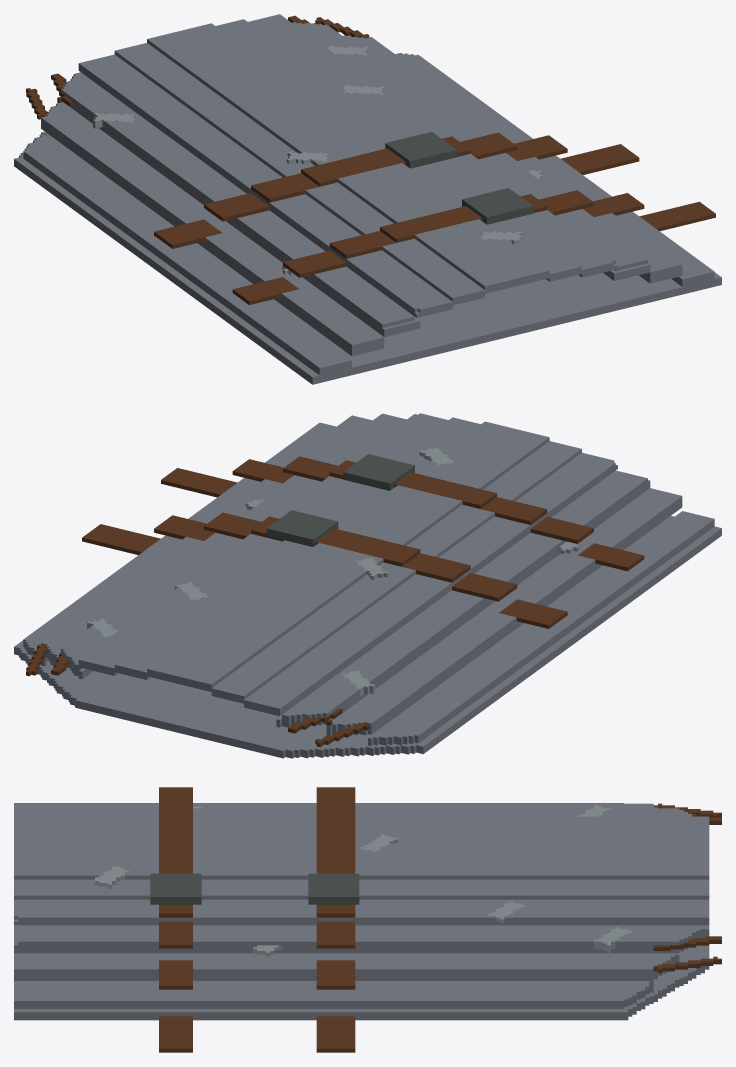
Rendered from ch_chestguard_metal_sheets.glb.
3 renders of one model, top to bottom at view 1: azimuth 30°, elevation 25°; view 2: azimuth 150°, elevation 25°; view 3: azimuth 270°, elevation 25°, orthographic. The views are drawn at different scales.
Visible parts, largest first — view 1: ch_chestguard_metal_sheets:compound; view 2: ch_chestguard_metal_sheets:compound; view 3: ch_chestguard_metal_sheets:compound.
Part boxes in pixels (x1,y1,x2,y2): ch_chestguard_metal_sheets:compound: [14, 14, 721, 384]; ch_chestguard_metal_sheets:compound: [14, 413, 721, 758]; ch_chestguard_metal_sheets:compound: [14, 787, 721, 1052].
Bounding box in the file's own units: 0.528 × 0.064 × 0.664.
